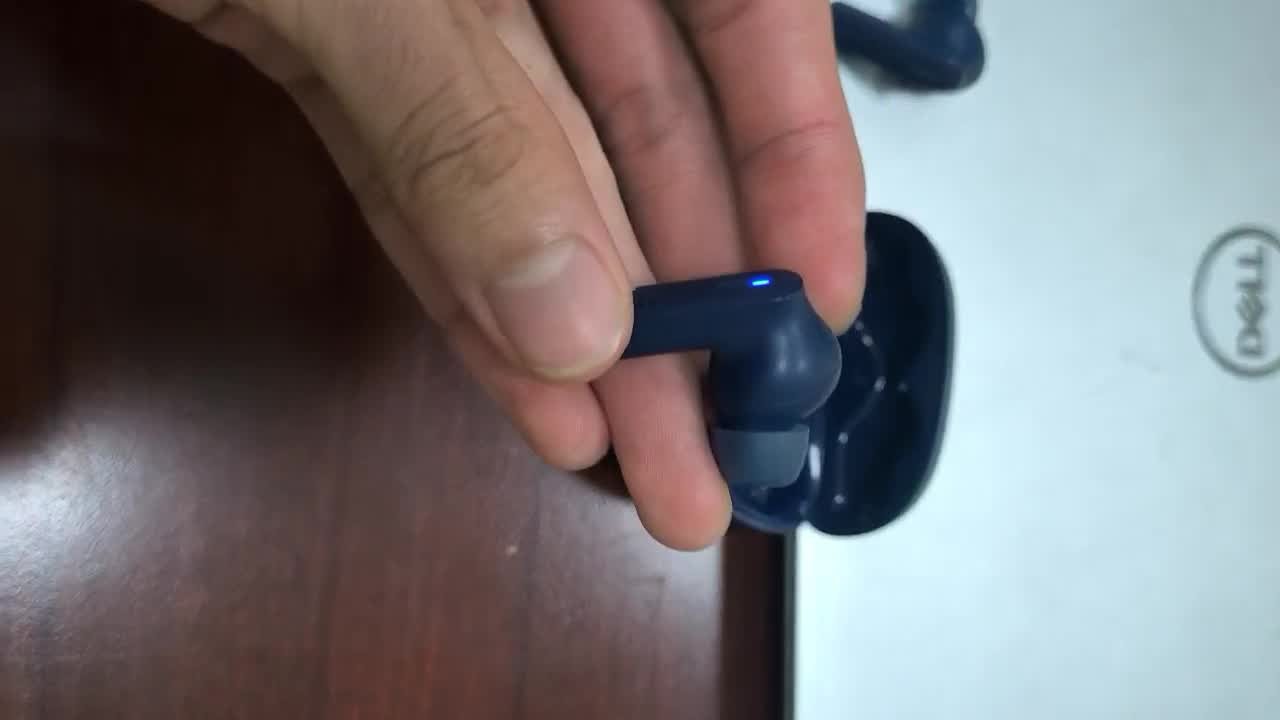Earbud: (622, 270, 840, 487), (832, 0, 984, 88)
